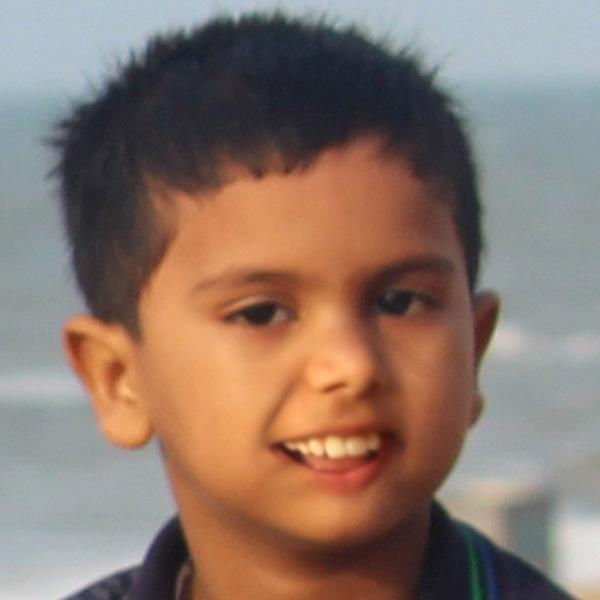Eyes: (215, 285, 304, 341), (356, 278, 444, 325)
